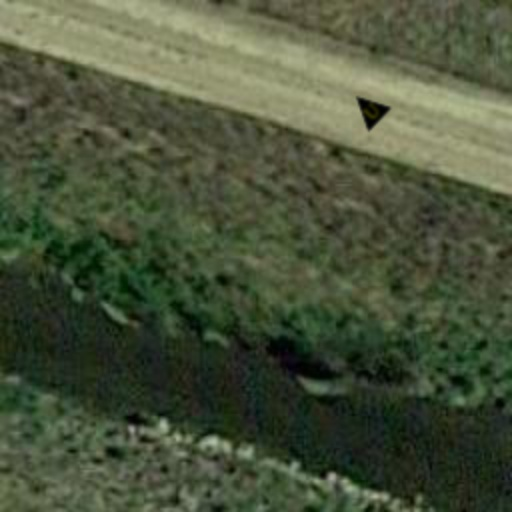triangle: (342, 82, 394, 134)
